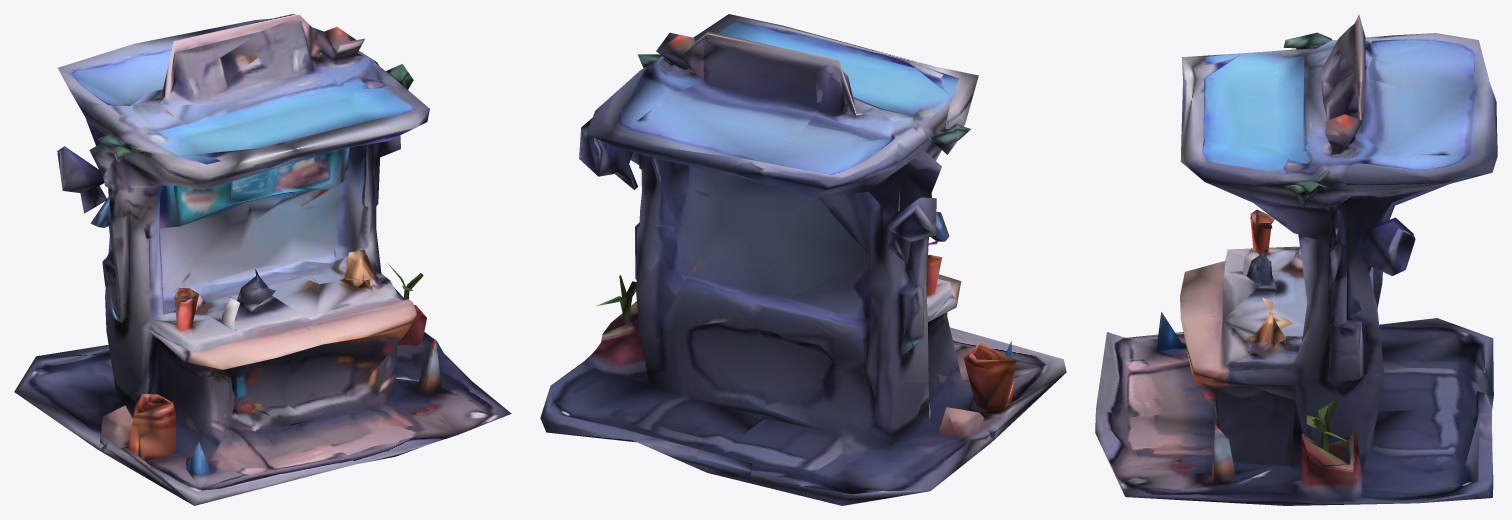
The model's file is p8kiosk.glb.
The picture shows the model from 3 angles, left to right: view 1: azimuth 30°, elevation 25°; view 2: azimuth 150°, elevation 25°; view 3: azimuth 270°, elevation 25°; orthographic projection. The views are drawn at different scales.
Visible parts, largest first — view 1: tripo_node_321bec13-ad5b-4947-ae2f-2142fa759ba2; view 2: tripo_node_321bec13-ad5b-4947-ae2f-2142fa759ba2; view 3: tripo_node_321bec13-ad5b-4947-ae2f-2142fa759ba2.
Boxes of the visible parts, x1=… form: tripo_node_321bec13-ad5b-4947-ae2f-2142fa759ba2: x1=14, y1=14, x2=511, y2=505; tripo_node_321bec13-ad5b-4947-ae2f-2142fa759ba2: x1=540, y1=14, x2=1066, y2=505; tripo_node_321bec13-ad5b-4947-ae2f-2142fa759ba2: x1=1095, y1=14, x2=1497, y2=505.
Bounding box in the file's own units: 0.9958 × 0.9274 × 0.8974.
Materials: 1 (1 with a texture image).
